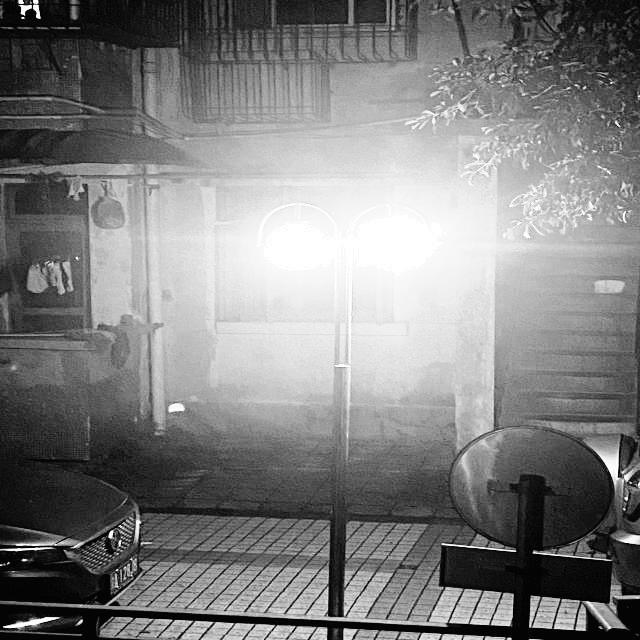Light: (255, 215, 419, 274)
